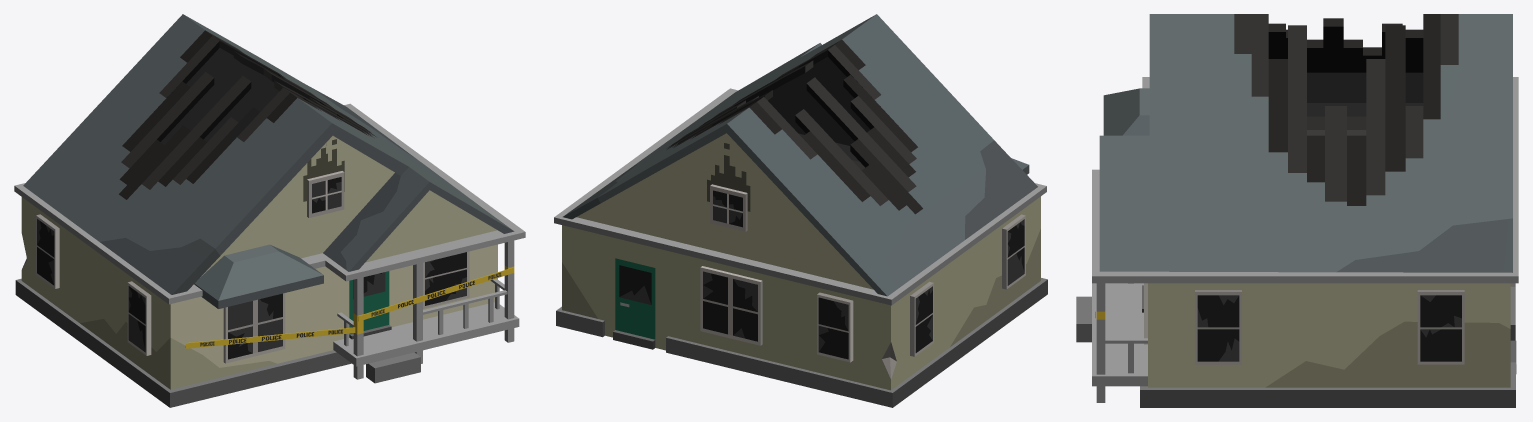
Rendered from SA_Bld_HouseMedium_Damaged_04.gltf.
3 views of the same model, side by side, from view 1: azimuth 30°, elevation 25°; view 2: azimuth 150°, elevation 25°; view 3: azimuth 270°, elevation 25° (orthographic). The views are drawn at different scales.
Visible parts, largest first — view 1: SA_Bld_HouseMedium_Damaged_04; view 2: SA_Bld_HouseMedium_Damaged_04; view 3: SA_Bld_HouseMedium_Damaged_04.
Part boxes in pixels (bbox=[...]): SA_Bld_HouseMedium_Damaged_04: bbox=[14, 14, 525, 407]; SA_Bld_HouseMedium_Damaged_04: bbox=[554, 14, 1047, 407]; SA_Bld_HouseMedium_Damaged_04: bbox=[1076, 14, 1518, 407].
Bounding box in the file's own units: 15.86 × 10.87 × 14.83.
Materials: 1 (1 with a texture image).
